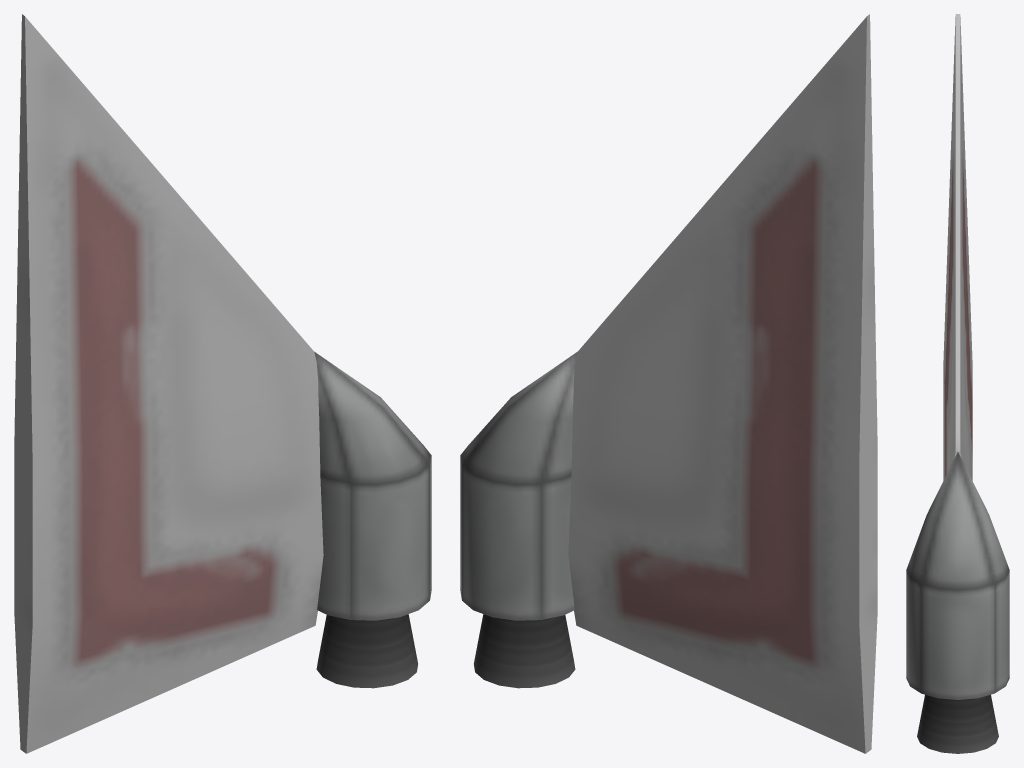
File: Diamant_Fin.dae
3 views of the same model, side by side, from view 1: azimuth 30°, elevation 25°; view 2: azimuth 150°, elevation 25°; view 3: azimuth 270°, elevation 25° (orthographic). The views are drawn at different scales.
Visible parts, largest first — view 1: Fin2, thrustTransform; view 2: Fin2, thrustTransform; view 3: Fin2, thrustTransform.
Boxes of the visible parts, x1,y1,x2,y2 form: Fin2: [14, 14, 431, 753]; thrustTransform: [316, 614, 417, 688]; Fin2: [460, 14, 877, 753]; thrustTransform: [474, 614, 575, 688]; Fin2: [906, 14, 1009, 699]; thrustTransform: [917, 694, 998, 753].
Bounding box in the file's own units: 0.5155 × 0.9072 × 0.1446.
